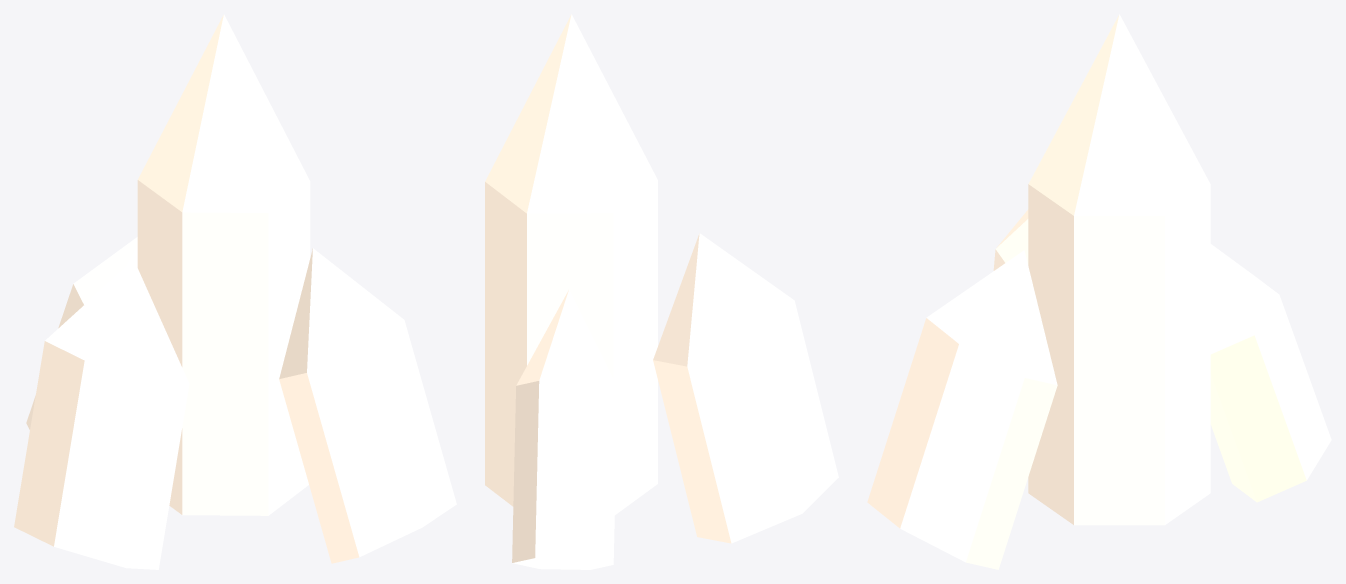
Rendered from cryst3a.glb.
3 renders of one model, left to right at view 1: azimuth 30°, elevation 25°; view 2: azimuth 150°, elevation 25°; view 3: azimuth 270°, elevation 25°, orthographic. The views are drawn at different scales.
Visible parts, largest first — view 1: shard; view 2: shard; view 3: shard.
Part boxes in pixels (left/top/right/bottom): shard: left=14, top=14, right=456, bottom=569; shard: left=485, top=14, right=838, bottom=569; shard: left=867, top=14, right=1331, bottom=569.
Size of the model in its own units: 4.8 by 6.6 by 5.4.
